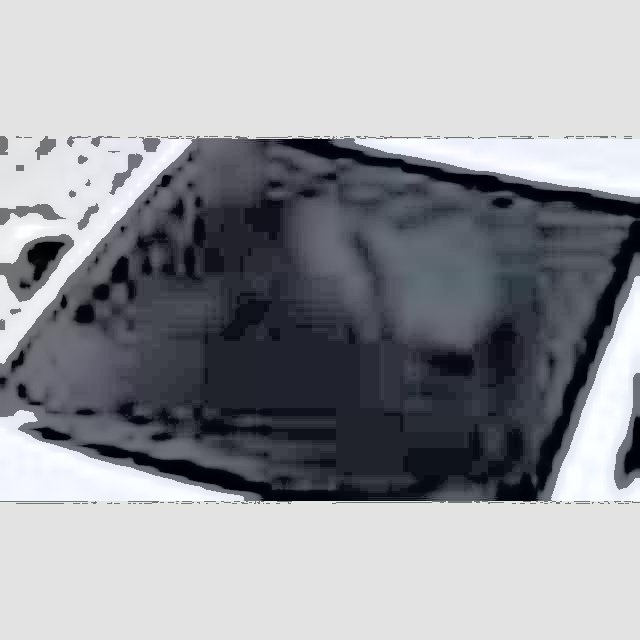pakai: (227, 173, 488, 350)
